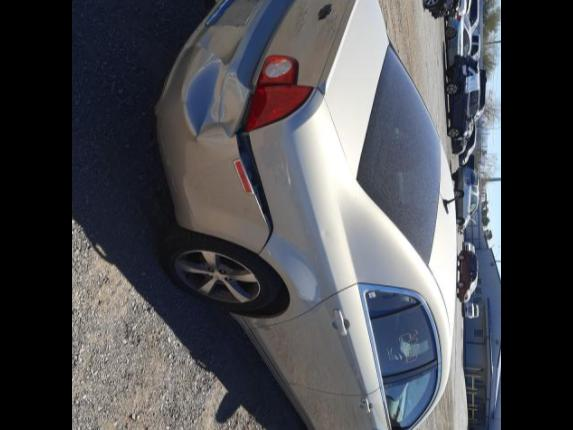Broken part: (228, 26, 280, 256)
Dent: (184, 59, 248, 140)
Scratch: (268, 154, 294, 198), (192, 50, 224, 72), (222, 70, 238, 82), (266, 244, 274, 256)
